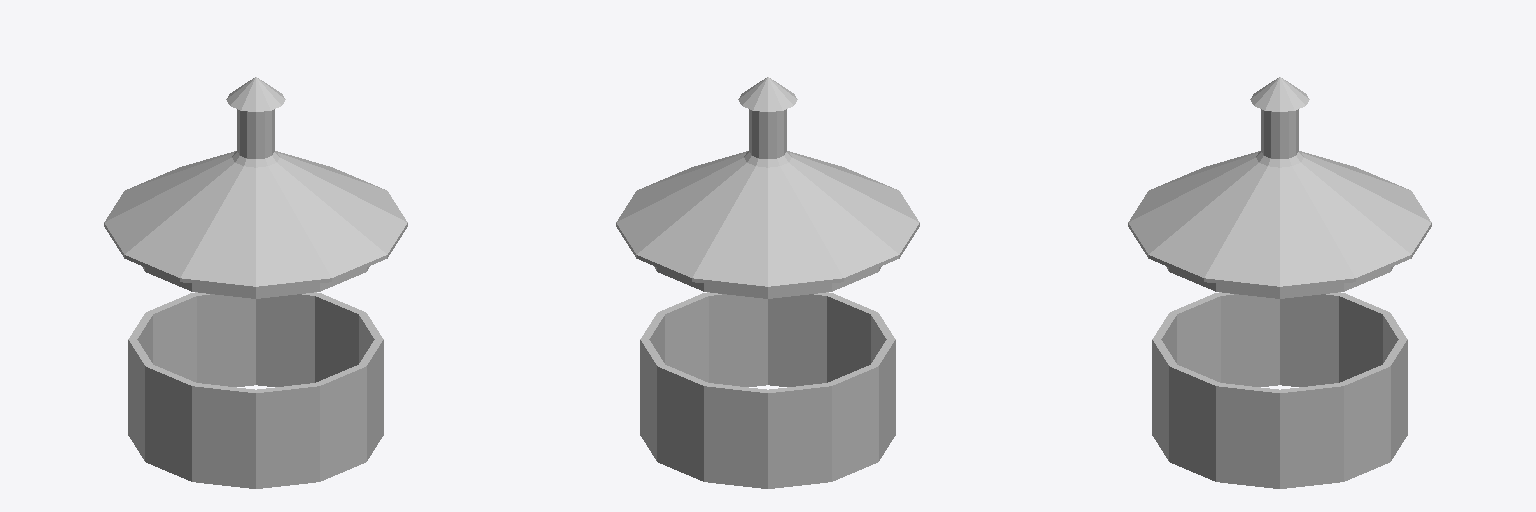
3 renders of one model, left to right at view 1: azimuth 30°, elevation 25°; view 2: azimuth 150°, elevation 25°; view 3: azimuth 270°, elevation 25°, orthographic.
Parts seen in each view (by area): view 1: main_0.002_Circle.003; view 2: main_0.002_Circle.003; view 3: main_0.002_Circle.003.
Part boxes in pixels (x1,y1,x2,y2): main_0.002_Circle.003: (104,77,407,488); main_0.002_Circle.003: (616,77,919,488); main_0.002_Circle.003: (1128,77,1431,488).
Bounding box in the file's own units: 5.21 × 6.79 × 5.21.